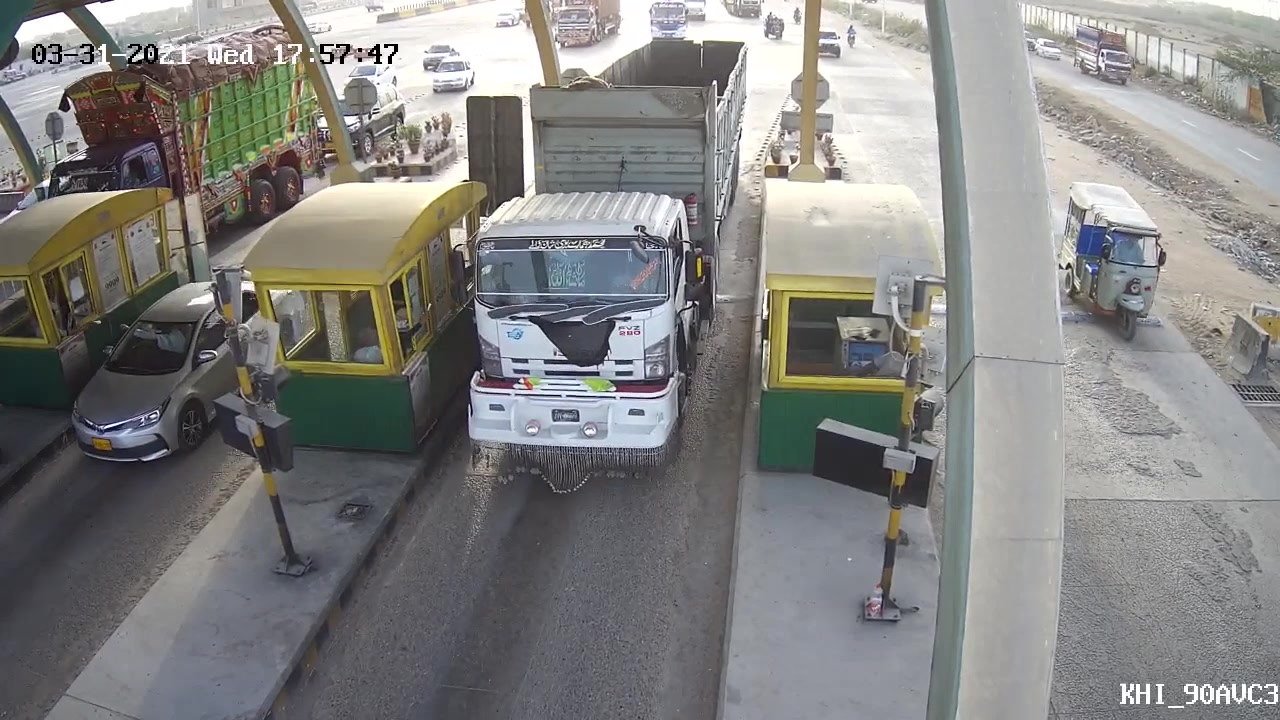F6: (445, 28, 760, 504)
